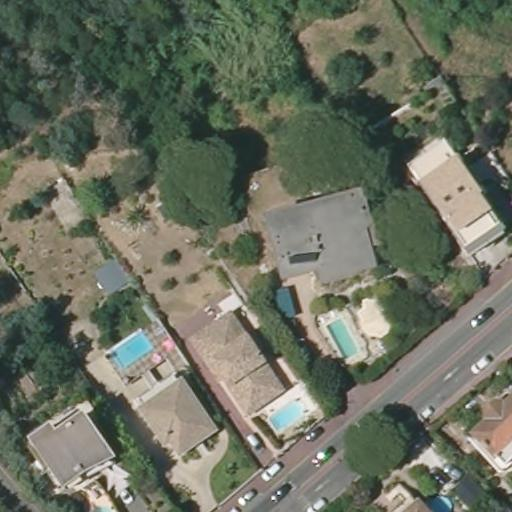pool: (111, 330, 153, 366), (268, 397, 310, 433), (326, 315, 358, 361), (424, 490, 457, 508)
